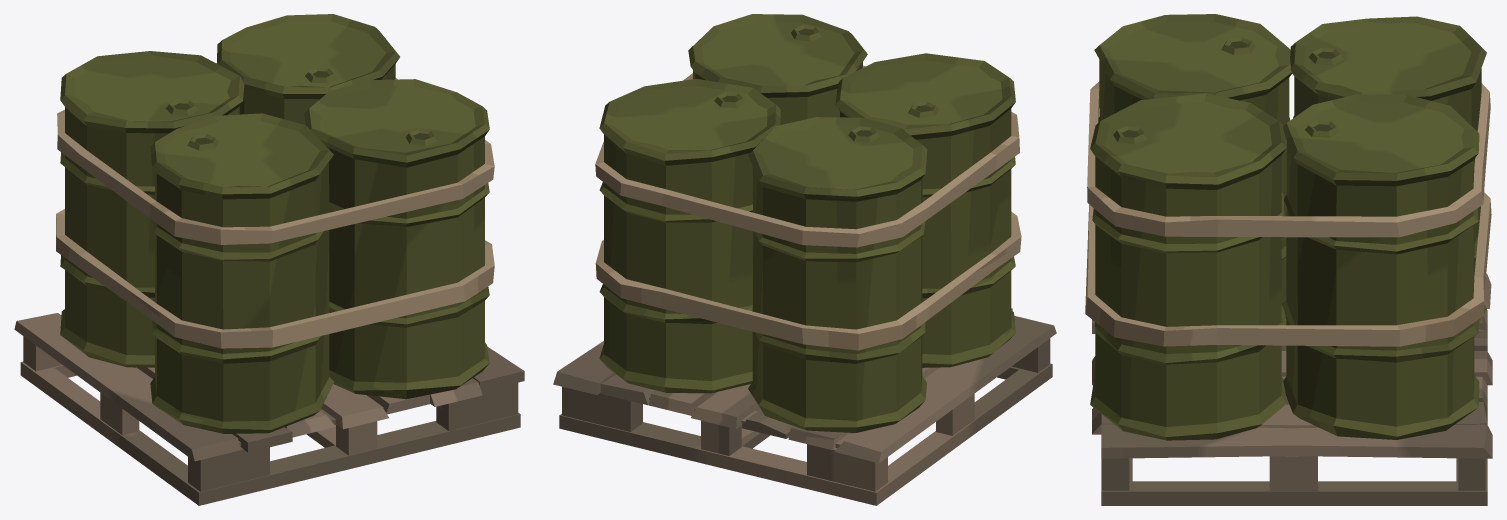
The model's file is SM_Prop_Barrel_Stack_01.fbx.
The picture shows the model from 3 angles, left to right: view 1: azimuth 30°, elevation 25°; view 2: azimuth 150°, elevation 25°; view 3: azimuth 270°, elevation 25°; orthographic projection. The views are drawn at different scales.
Visible parts, largest first — view 1: SM_Prop_Barrel_Stack_01; view 2: SM_Prop_Barrel_Stack_01; view 3: SM_Prop_Barrel_Stack_01.
Part boxes in pixels (left/top/right/bottom): SM_Prop_Barrel_Stack_01: left=14, top=14, right=524, bottom=505; SM_Prop_Barrel_Stack_01: left=553, top=14, right=1056, bottom=505; SM_Prop_Barrel_Stack_01: left=1085, top=14, right=1492, bottom=505.
Size of the model in its own units: 146 by 128 by 144.
